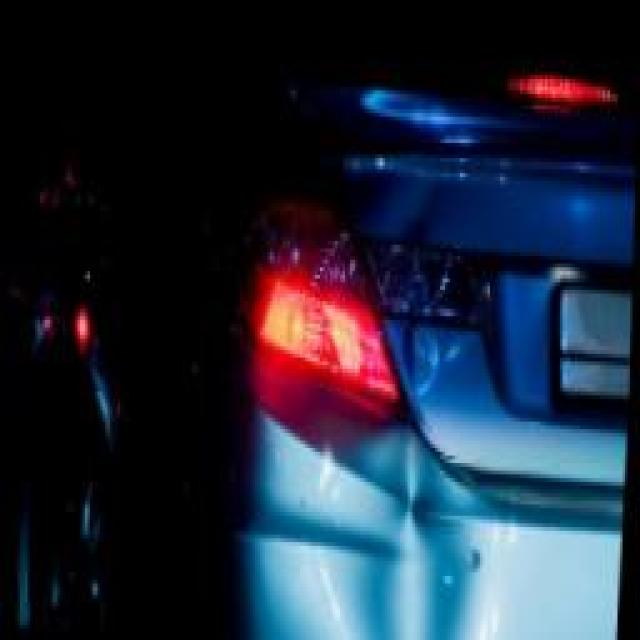Bumper: (258, 418, 628, 640)
Dickey: (378, 207, 532, 403)
